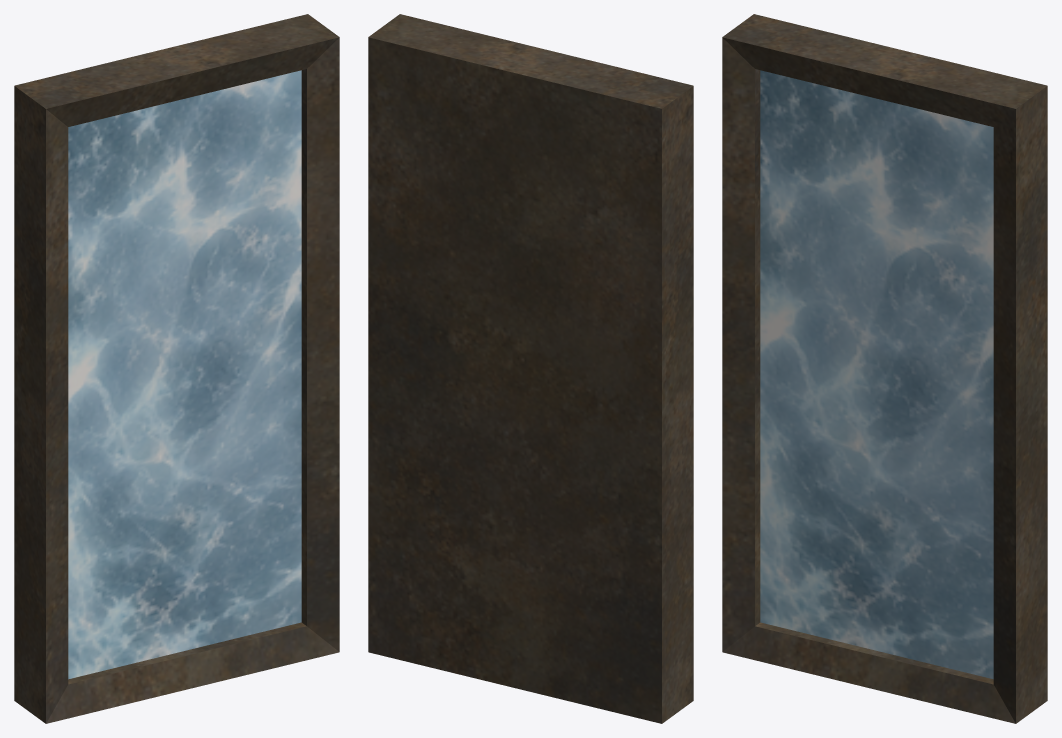
File: mm9_deco_mirror.glb
The picture shows the model from 3 angles, left to right: view 1: azimuth 30°, elevation 25°; view 2: azimuth 150°, elevation 25°; view 3: azimuth 330°, elevation 25°; orthographic projection.
Visible parts, largest first — view 1: Mirror; view 2: Mirror; view 3: Mirror.
Part boxes in pixels (bbox=[...]): Mirror: bbox=[14, 14, 339, 723]; Mirror: bbox=[368, 14, 693, 723]; Mirror: bbox=[722, 14, 1047, 723].
Bounding box in the file's own units: 1 × 2.01 × 0.188.
Materials: 2 (2 with a texture image).
